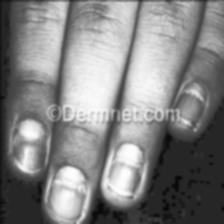Toxin: (7, 117, 49, 173), (166, 78, 206, 134), (99, 144, 144, 191)
